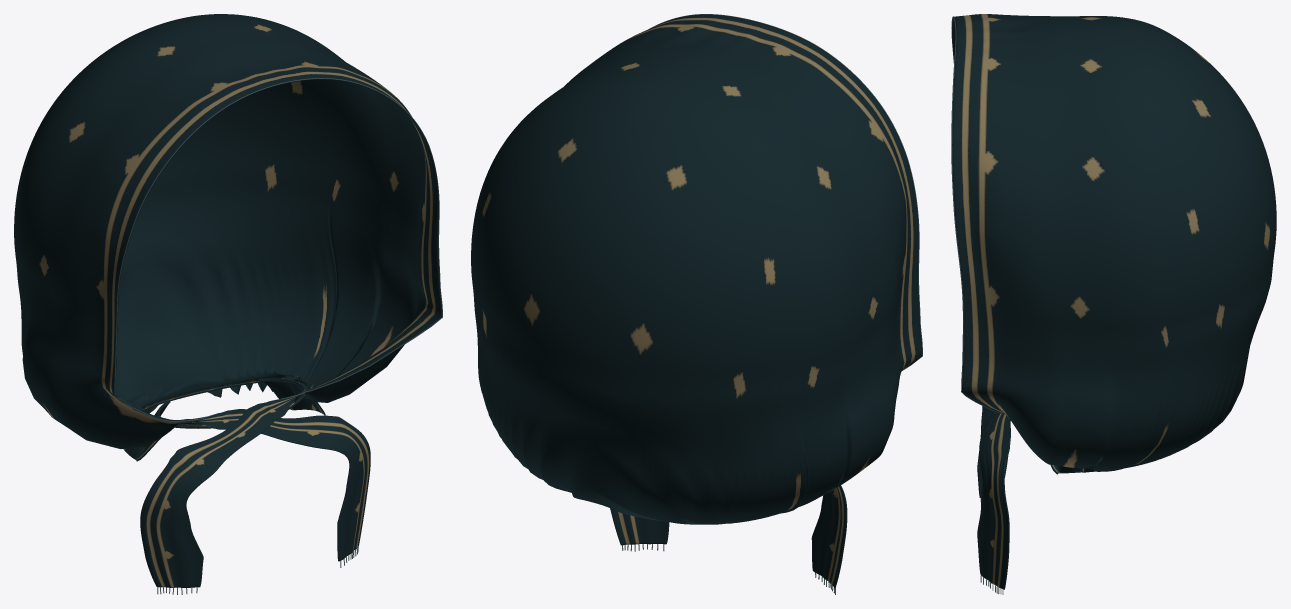
Rendered from Masculine-Masculine-middle-part-tank-pashmina250-headgear-6aa54bea.glb.
3 views of the same model, side by side, from view 1: azimuth 30°, elevation 25°; view 2: azimuth 150°, elevation 25°; view 3: azimuth 270°, elevation 25° (orthographic). The views are drawn at different scales.
Visible parts, largest first — view 1: 226 headgear / Headwear / continuous woven pashmina239, 226 headgear / Headwear / face edge239; view 2: 226 headgear / Headwear / continuous woven pashmina239, 226 headgear / Headwear / face edge239; view 3: 226 headgear / Headwear / continuous woven pashmina239, 226 headgear / Headwear / face edge239.
Boxes of the visible parts, left/top/right/bottom form: 226 headgear / Headwear / continuous woven pashmina239: left=14, top=14, right=441, bottom=587; 226 headgear / Headwear / face edge239: left=114, top=78, right=442, bottom=422; 226 headgear / Headwear / continuous woven pashmina239: left=471, top=14, right=921, bottom=587; 226 headgear / Headwear / face edge239: left=649, top=14, right=922, bottom=370; 226 headgear / Headwear / continuous woven pashmina239: left=952, top=14, right=1276, bottom=589; 226 headgear / Headwear / face edge239: left=951, top=16, right=1005, bottom=414.
Bounding box in the file's own units: 0.9063 × 1.23 × 0.7056.
3 materials, 1 textured.
